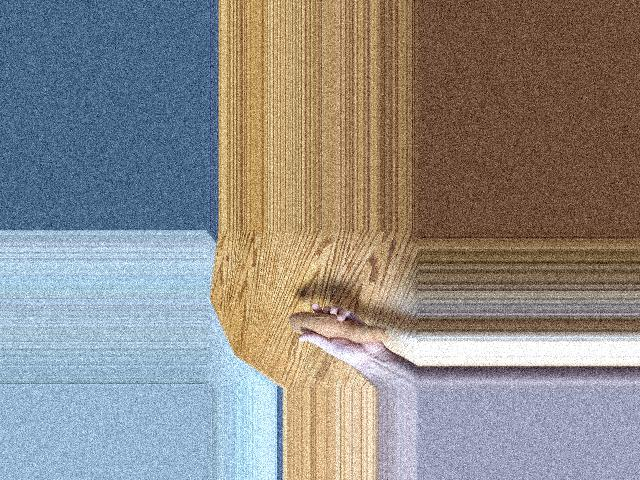sweet_potato: (286, 310, 398, 351)
